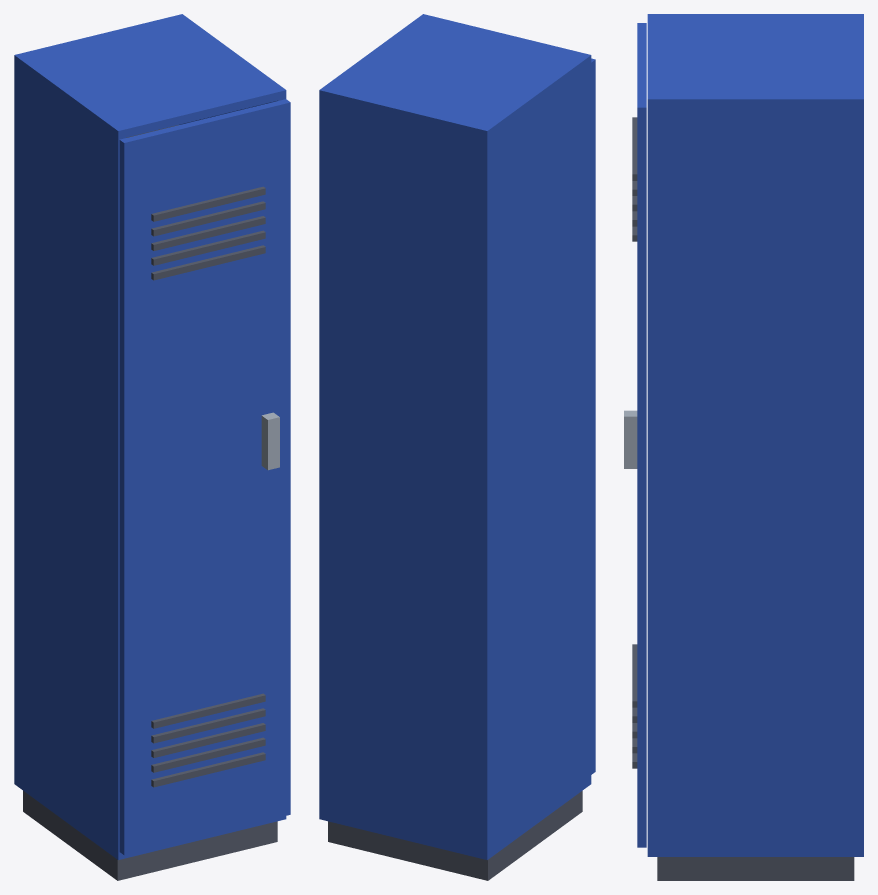
The model's file is locker.glb.
The picture shows the model from 3 angles, left to right: view 1: azimuth 30°, elevation 25°; view 2: azimuth 150°, elevation 25°; view 3: azimuth 270°, elevation 25°; orthographic projection. The views are drawn at different scales.
Visible parts, largest first — view 1: Locker door, Locker case, Locker plinth, Locker handle; view 2: Locker case, Locker plinth, Locker door; view 3: Locker case, Locker door, Locker plinth, Locker handle.
Part boxes in pixels (<box>): Locker door: <box>119,99,290,855</box>; Locker case: <box>14,14,286,859</box>; Locker plinth: <box>23,791,277,880</box>; Locker handle: <box>261,412,279,470</box>; Locker case: <box>319,14,591,859</box>; Locker plinth: <box>328,791,582,880</box>; Locker door: <box>591,58,595,774</box>; Locker case: <box>647,14,863,856</box>; Locker door: <box>632,23,646,847</box>; Locker plinth: <box>657,857,854,880</box>; Locker handle: <box>624,410,637,468</box>.
Bounding box in the file's own units: 0.42 × 1.8 × 0.4995.
